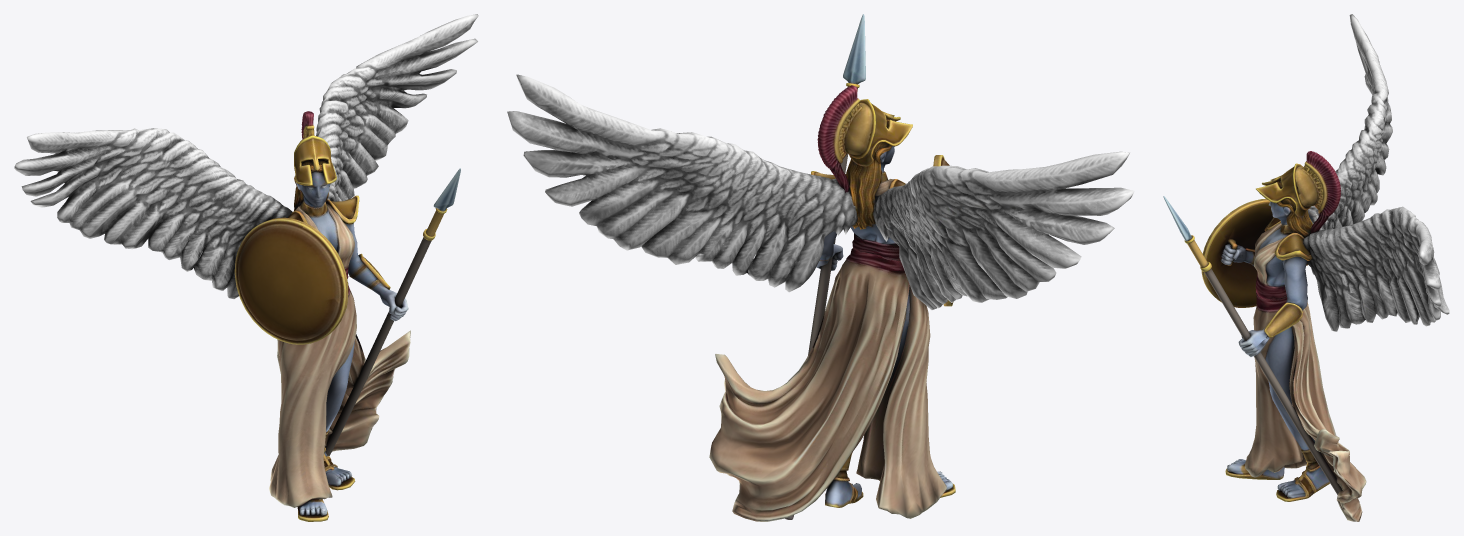
Rendered from MZ4250 - Angel Deva Female.glb.
3 renders of one model, left to right at view 1: azimuth 30°, elevation 25°; view 2: azimuth 150°, elevation 25°; view 3: azimuth 270°, elevation 25°, orthographic. The views are drawn at different scales.
Parts seen in each view (by area): view 1: wings_low.001, body_low.001, shield_low.001, spear_low.001, helm_low.001; view 2: wings_low.001, body_low.001, helm_low.001, spear_low.001; view 3: body_low.001, wings_low.001, shield_low.001, helm_low.001, spear_low.001.
Boxes of the visible parts, bbox=[...] form: wings_low.001: bbox=[14, 14, 478, 298]; body_low.001: bbox=[269, 160, 410, 521]; shield_low.001: bbox=[234, 217, 348, 344]; spear_low.001: bbox=[325, 168, 460, 455]; helm_low.001: bbox=[294, 111, 336, 185]; wings_low.001: bbox=[507, 74, 1134, 309]; body_low.001: bbox=[709, 119, 955, 521]; helm_low.001: bbox=[817, 85, 912, 192]; spear_low.001: bbox=[785, 14, 865, 519]; body_low.001: bbox=[1220, 181, 1366, 521]; wings_low.001: bbox=[1303, 14, 1449, 331]; shield_low.001: bbox=[1201, 198, 1272, 307]; helm_low.001: bbox=[1256, 151, 1340, 233]; spear_low.001: bbox=[1163, 196, 1342, 494].
Size of the model in its own units: 7.38 by 5.5 by 3.98.
Materials: 1 (1 with a texture image).
